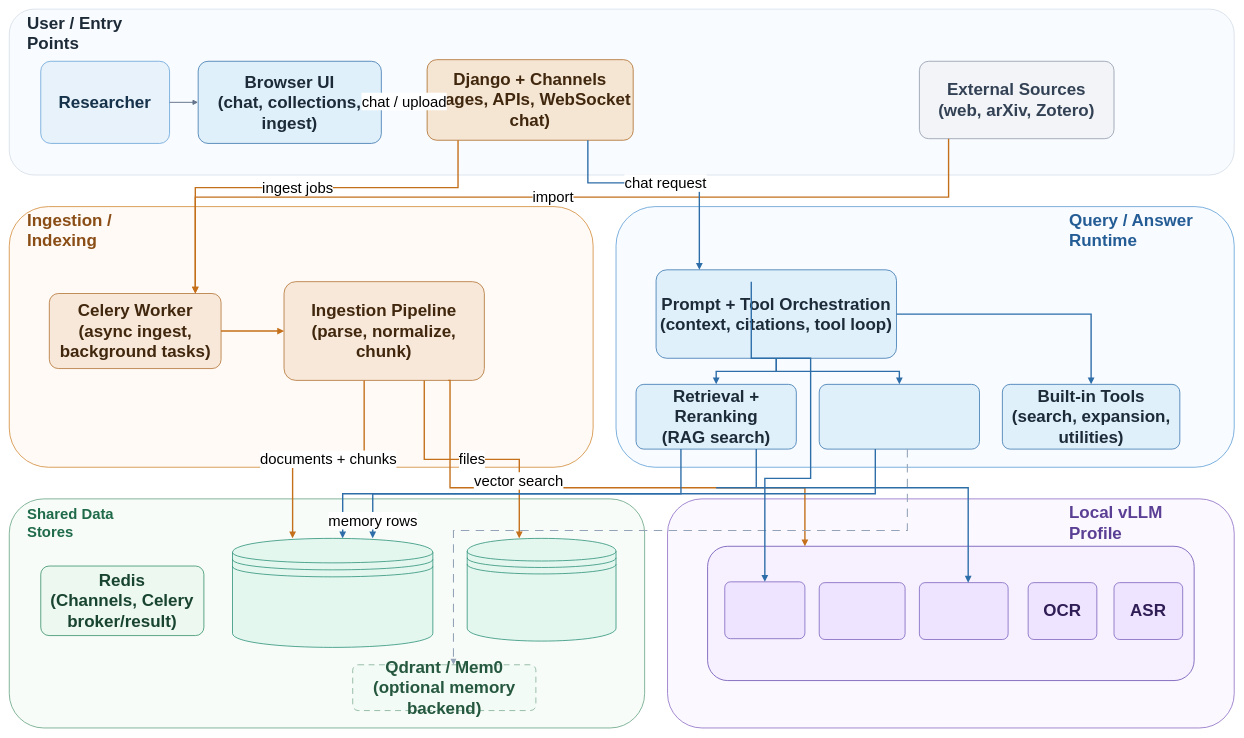
The diagram is 1244 pixels wide and 738 high, and some of its shapes have lost their labels. Each missing label, with the centre of its shape:
chat: the point at 764,610
embeddings: the point at 862,611
Memory Service (user facts, episodic): the point at 899,416
MinIO Object Storage (files, media): the point at 541,589
PostgreSQL + pgvector (docs, chunks, chats, vectors): the point at 332,593
reranking: the point at 963,611
